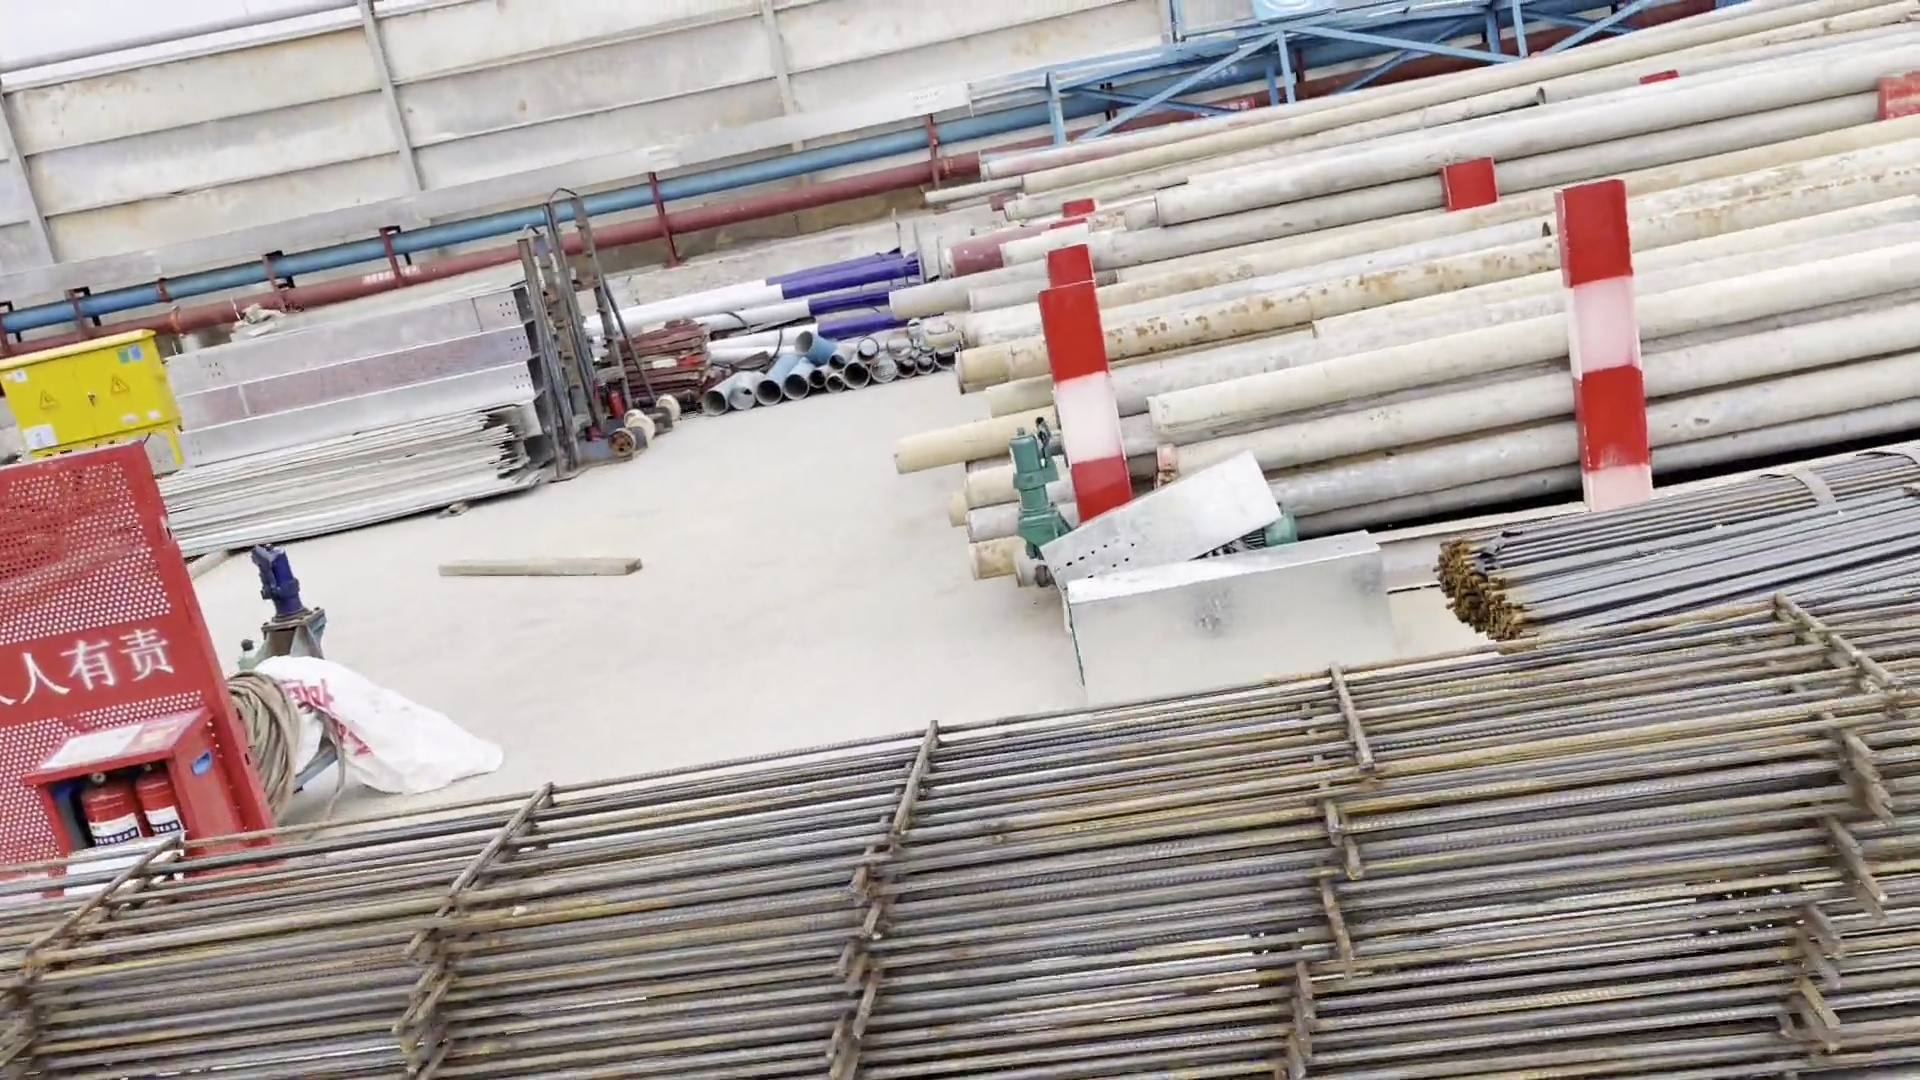ebox: (4, 332, 208, 462)
fence: (3, 446, 314, 862)
rebar: (556, 640, 1920, 1073), (3, 803, 977, 1080), (1441, 440, 1920, 698)
